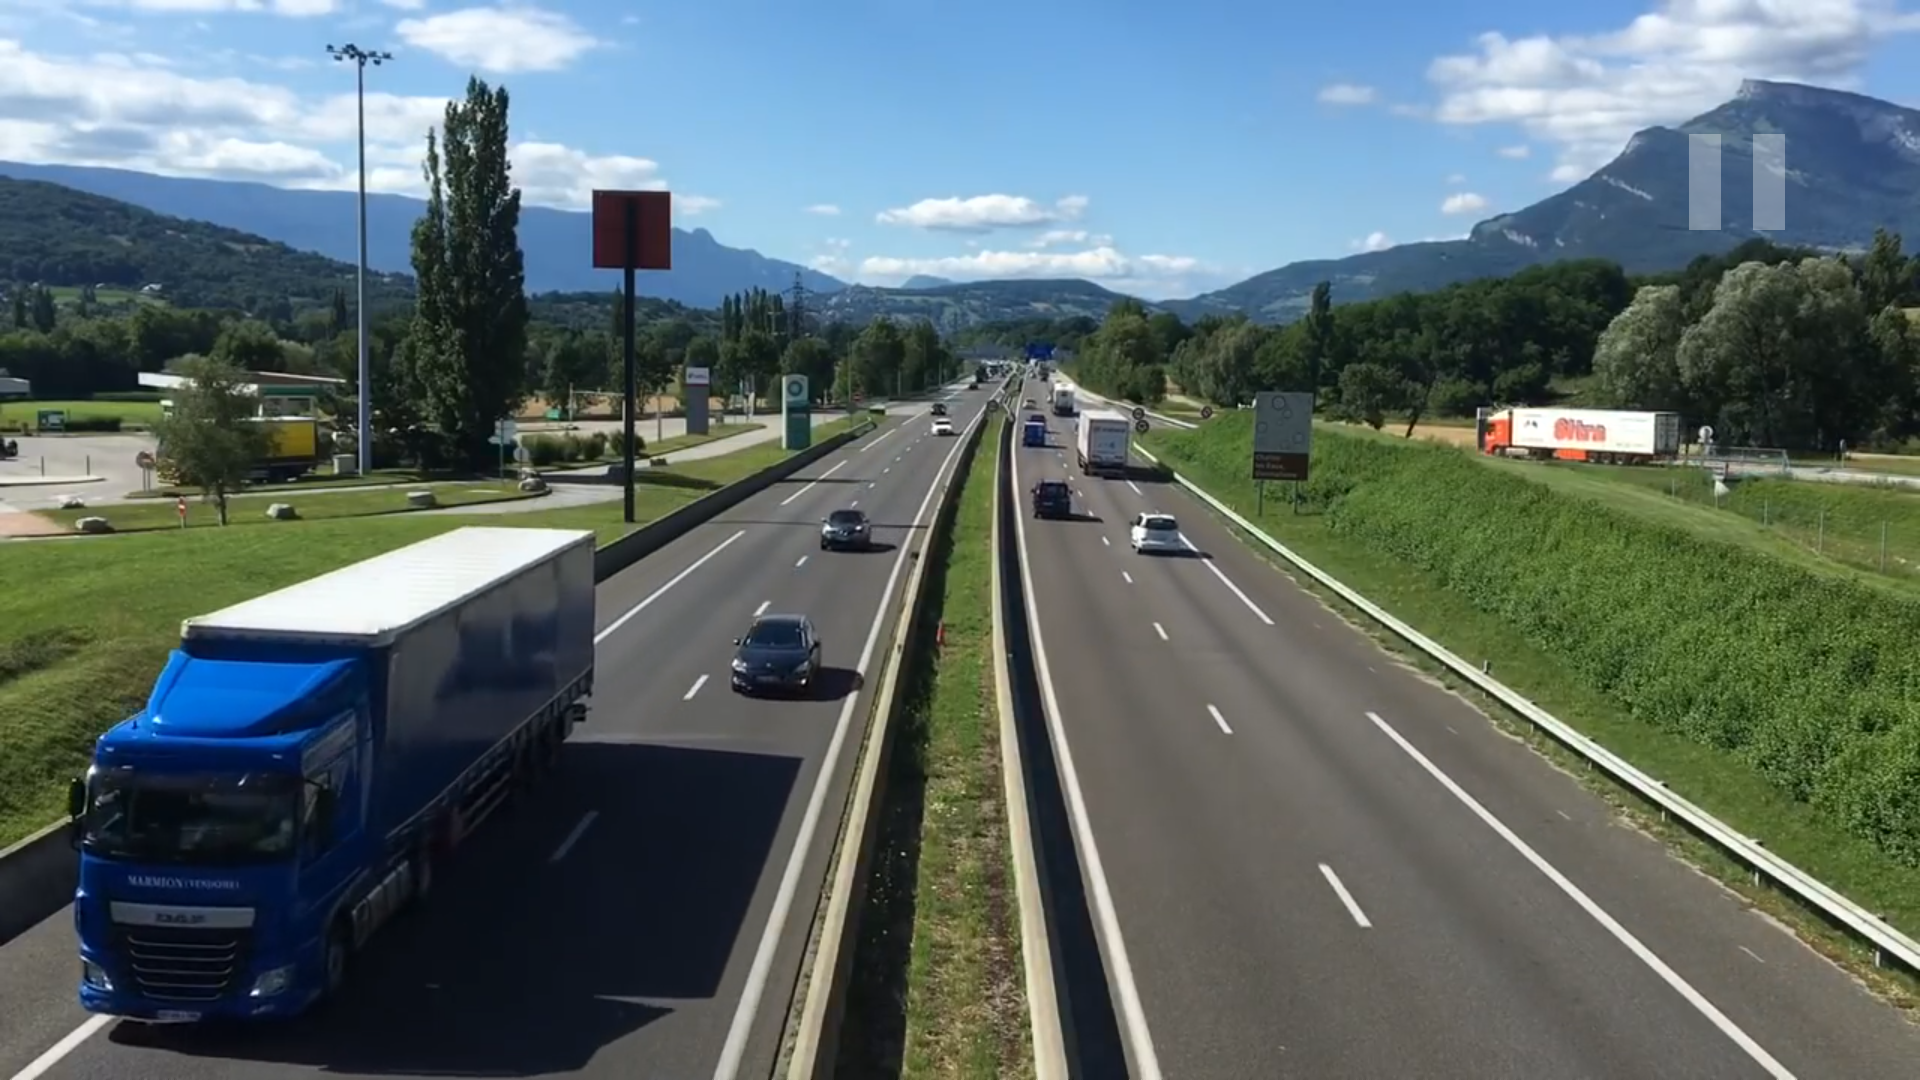HeavyVehicle: (54, 508, 633, 1029), (1482, 407, 1691, 465), (1073, 401, 1131, 477)
LightVehicle: (723, 609, 824, 699), (1124, 502, 1193, 558), (812, 504, 887, 553), (1031, 473, 1077, 522)
